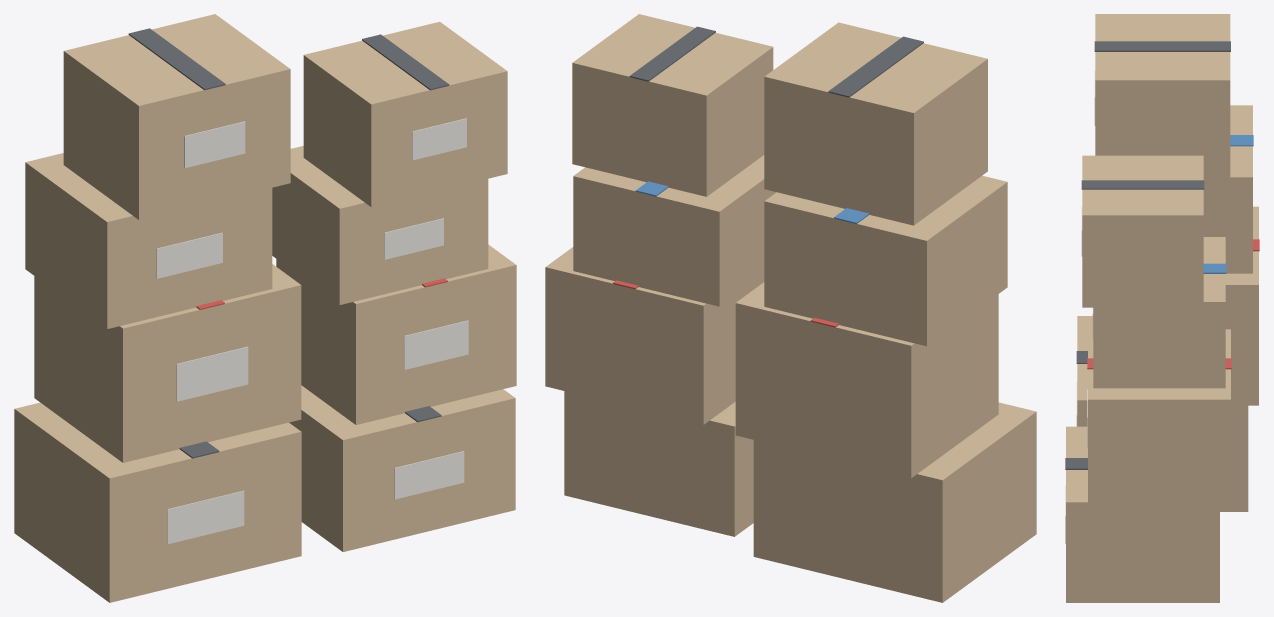
The model's file is parcel-depot-and-sorting-hall-parcel-depot-and-sorting-4a2d56cf__34801.glb.
The picture shows the model from 3 angles, left to right: view 1: azimuth 30°, elevation 25°; view 2: azimuth 150°, elevation 25°; view 3: azimuth 270°, elevation 25°; orthographic projection. The views are drawn at different scales.
Parts seen in each view (by area): view 1: parcel-depot-and-sorting-hall-parcel-stack-large; view 2: parcel-depot-and-sorting-hall-parcel-stack-large; view 3: parcel-depot-and-sorting-hall-parcel-stack-large.
Part boxes in pixels (x1=…): parcel-depot-and-sorting-hall-parcel-stack-large: x1=14, y1=14, x2=516, y2=602; parcel-depot-and-sorting-hall-parcel-stack-large: x1=545, y1=14, x2=1036, y2=602; parcel-depot-and-sorting-hall-parcel-stack-large: x1=1065, y1=14, x2=1259, y2=602.
Size of the model in its own units: 1.29 by 1.44 by 0.5862.
